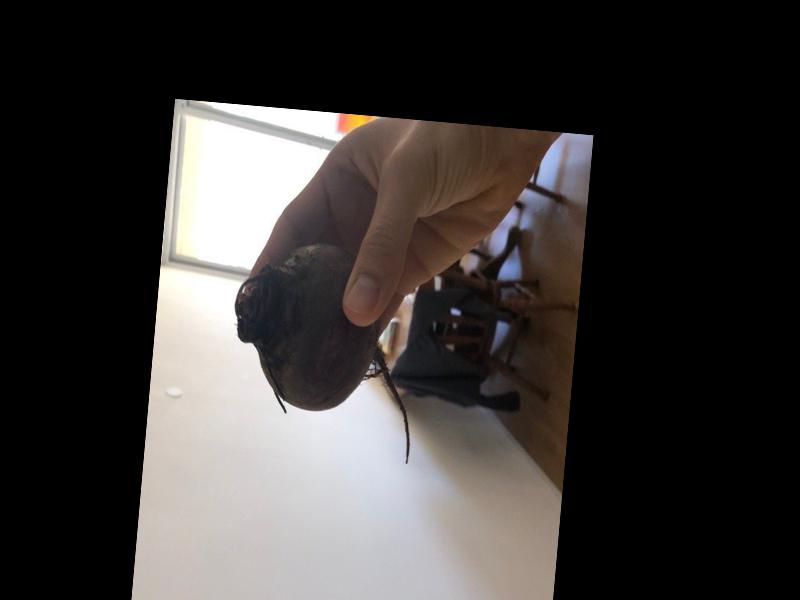Beet: (221, 237, 426, 465)
